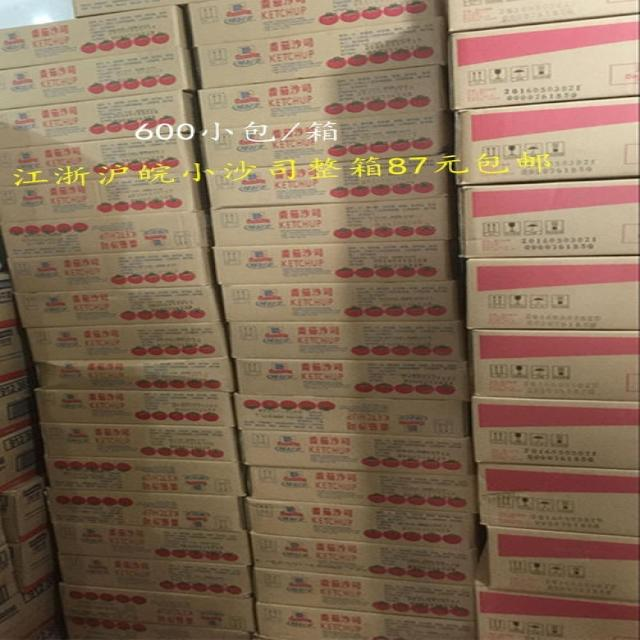box: (447, 14, 640, 110), (191, 19, 444, 89), (452, 94, 640, 185), (196, 65, 447, 130), (197, 112, 452, 171), (457, 178, 640, 258), (204, 154, 452, 209), (472, 557, 640, 638), (466, 256, 640, 331), (209, 196, 458, 245), (476, 464, 640, 538), (471, 399, 640, 470), (0, 48, 195, 109), (189, 1, 447, 47), (0, 7, 191, 69), (471, 331, 640, 401), (246, 500, 477, 551), (485, 527, 640, 603), (248, 536, 475, 587), (252, 569, 476, 620), (0, 91, 200, 148), (1, 209, 211, 259), (239, 431, 476, 475), (0, 171, 207, 221), (211, 241, 449, 284), (1, 134, 201, 185), (246, 467, 477, 511), (219, 281, 461, 322), (234, 359, 470, 401), (232, 395, 468, 437), (229, 321, 467, 362), (5, 248, 216, 293), (60, 585, 256, 632), (51, 521, 252, 566), (13, 287, 221, 328), (59, 556, 252, 598), (255, 602, 474, 639), (23, 321, 230, 360), (47, 490, 244, 530), (40, 422, 238, 461), (35, 390, 236, 427), (46, 459, 246, 496), (33, 358, 236, 392), (445, 0, 640, 34), (63, 616, 250, 639), (0, 575, 65, 639), (1, 473, 52, 542), (12, 524, 63, 593), (0, 423, 45, 493), (0, 374, 41, 436), (0, 329, 31, 380)
